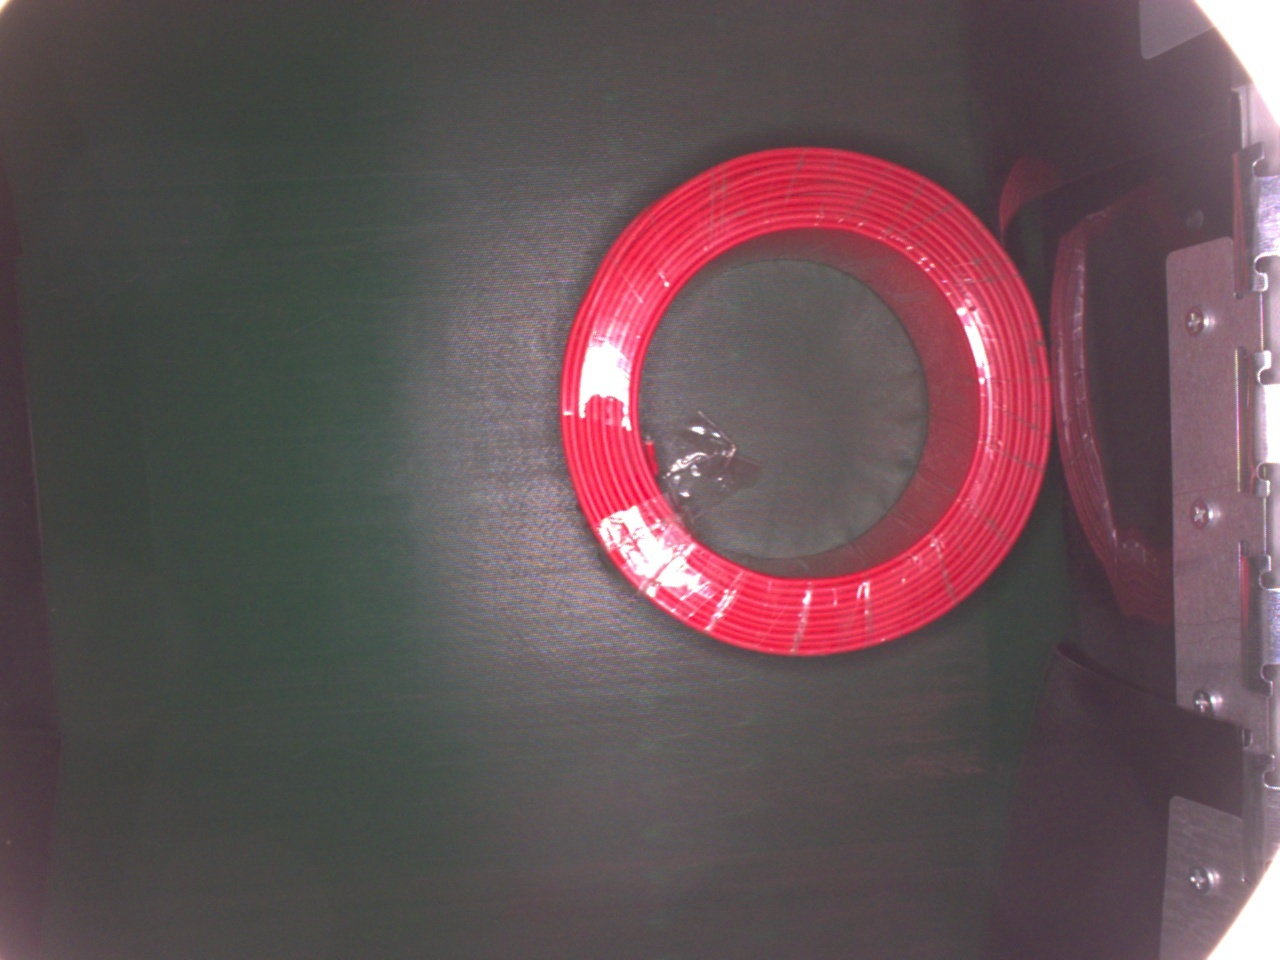red: (557, 145, 1051, 659)
